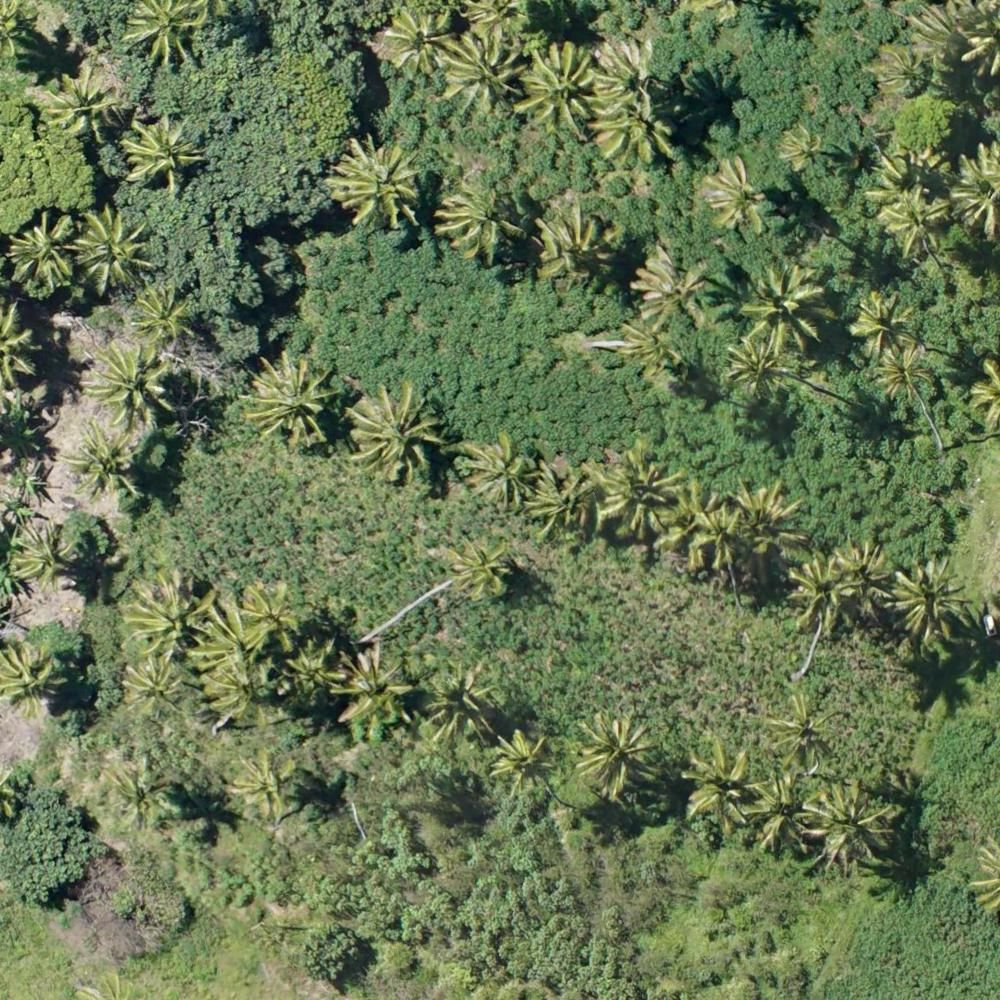Palm: (349, 382, 442, 481), (247, 356, 341, 447), (599, 441, 689, 535), (741, 267, 828, 357), (633, 248, 716, 338), (572, 713, 655, 802), (125, 576, 215, 658), (328, 140, 421, 219), (533, 197, 620, 281), (88, 344, 173, 429), (438, 180, 525, 263), (449, 28, 533, 110), (524, 35, 593, 133), (889, 555, 969, 639), (809, 784, 892, 864), (590, 96, 681, 168), (685, 743, 759, 829), (79, 209, 154, 291), (119, 1, 212, 67), (750, 768, 822, 852), (595, 36, 665, 122), (124, 114, 204, 189), (335, 645, 409, 725), (6, 208, 79, 289), (731, 477, 802, 560), (45, 66, 123, 140), (429, 668, 498, 748), (699, 158, 771, 234), (382, 8, 459, 77), (231, 582, 305, 652), (199, 654, 273, 723), (119, 657, 195, 724), (766, 697, 836, 769), (63, 428, 138, 495), (787, 557, 857, 628), (464, 438, 532, 510), (3, 643, 70, 716), (690, 500, 752, 572), (134, 284, 201, 350), (530, 463, 595, 530), (11, 525, 76, 589), (234, 752, 300, 815), (723, 339, 789, 401), (618, 321, 684, 382), (880, 192, 942, 255), (490, 735, 551, 796), (453, 545, 518, 598), (853, 295, 909, 351), (876, 345, 929, 394), (778, 122, 829, 171)
